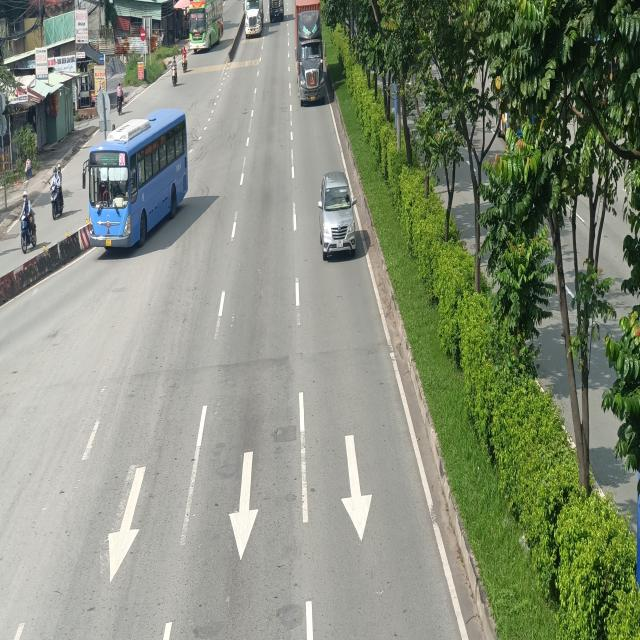car: (318, 169, 356, 261)
coach: (86, 108, 190, 248), (183, 0, 226, 52)
container: (295, 1, 329, 106), (244, 0, 265, 39)
